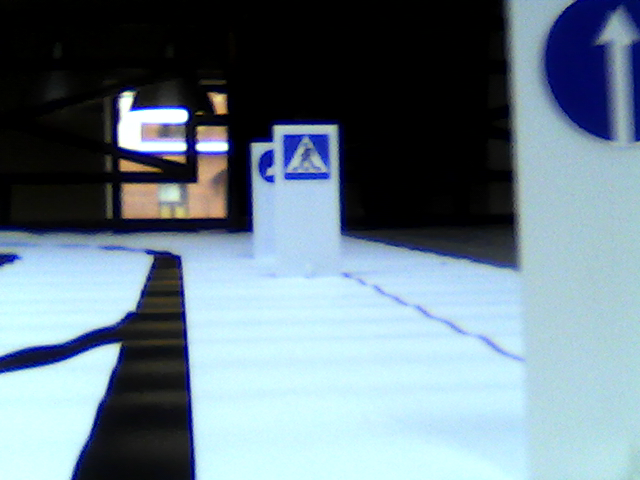forw: (543, 1, 637, 147)
pesh: (282, 132, 333, 179)
